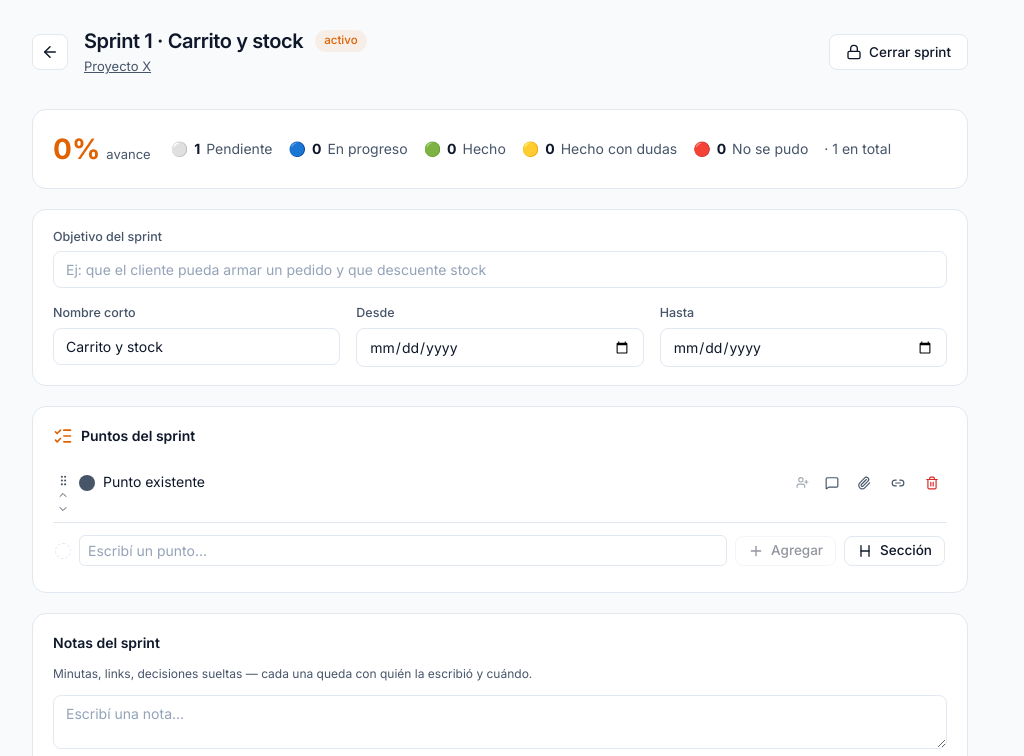
Scenario: SprintDetalle — responsable y comentarios por punto › agregar un comentario lo manda con autor y lo muestra
This screenshot has width=1024, height=756.
Expected: the text "Punto existente" is shown, [103, 473, 205, 490]
Step 1. Click the button titled "Comentarios" → point(832, 483), box [821, 470, 843, 496]
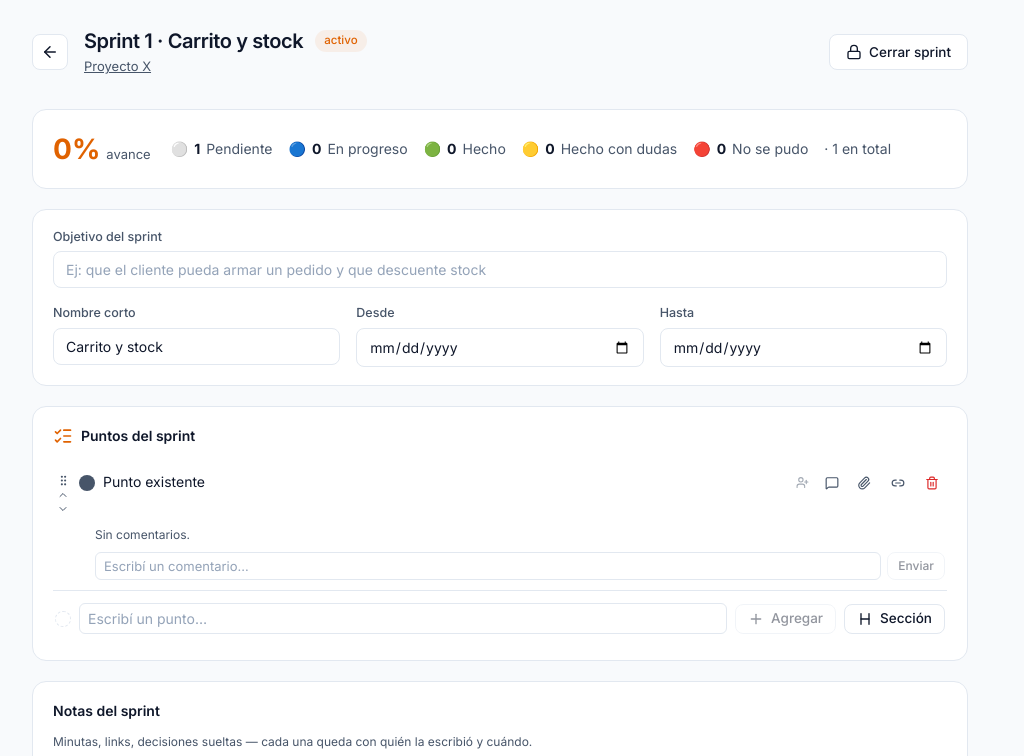
Step 2. Type "Ojo con el stock" into the field with placeholder "Escribí un comentario…" → point(488, 566), box [95, 552, 881, 580]
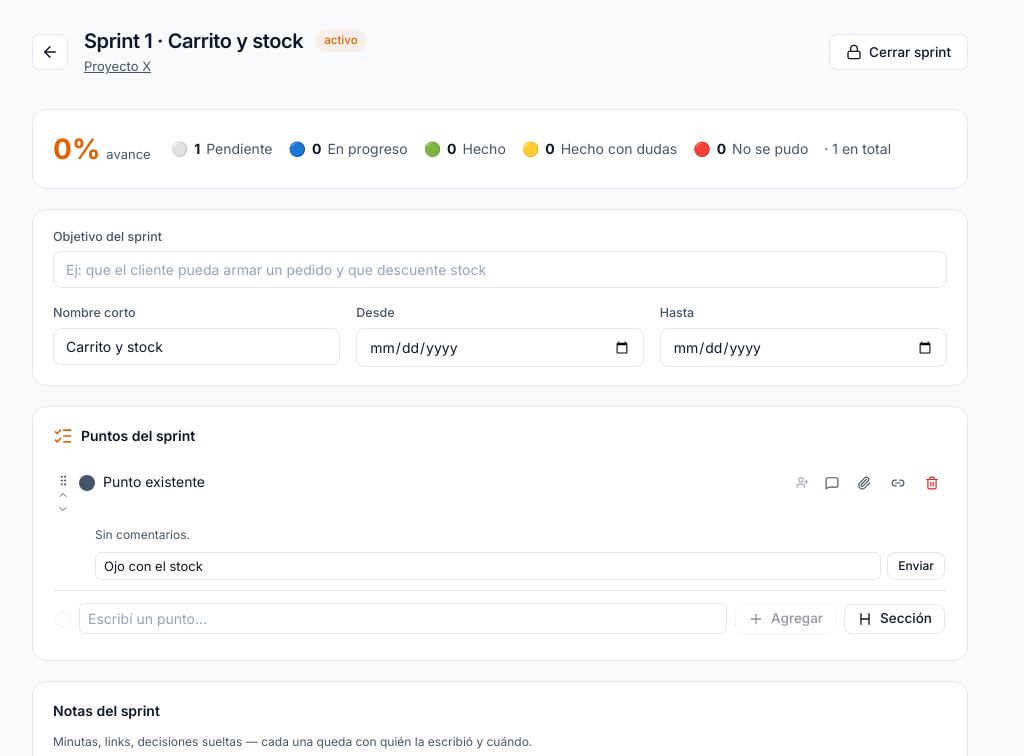
Step 3. Click the button "Enviar" → point(916, 566), box [887, 552, 945, 580]
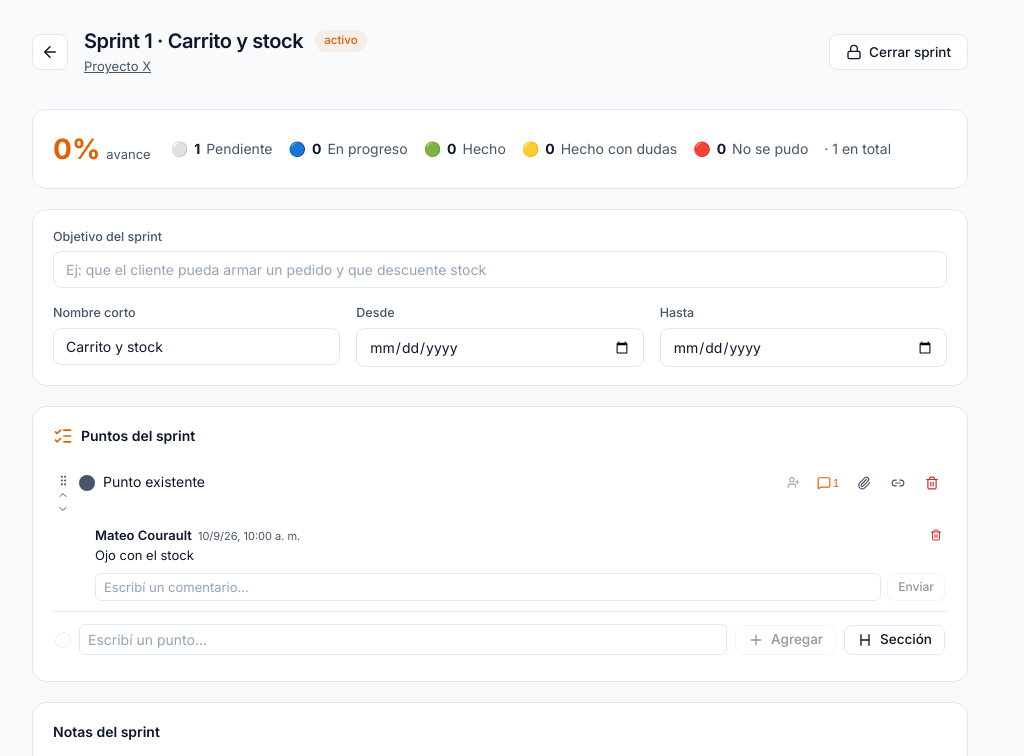
Result: the text "Ojo con el stock" is shown at [95, 546, 194, 562]
